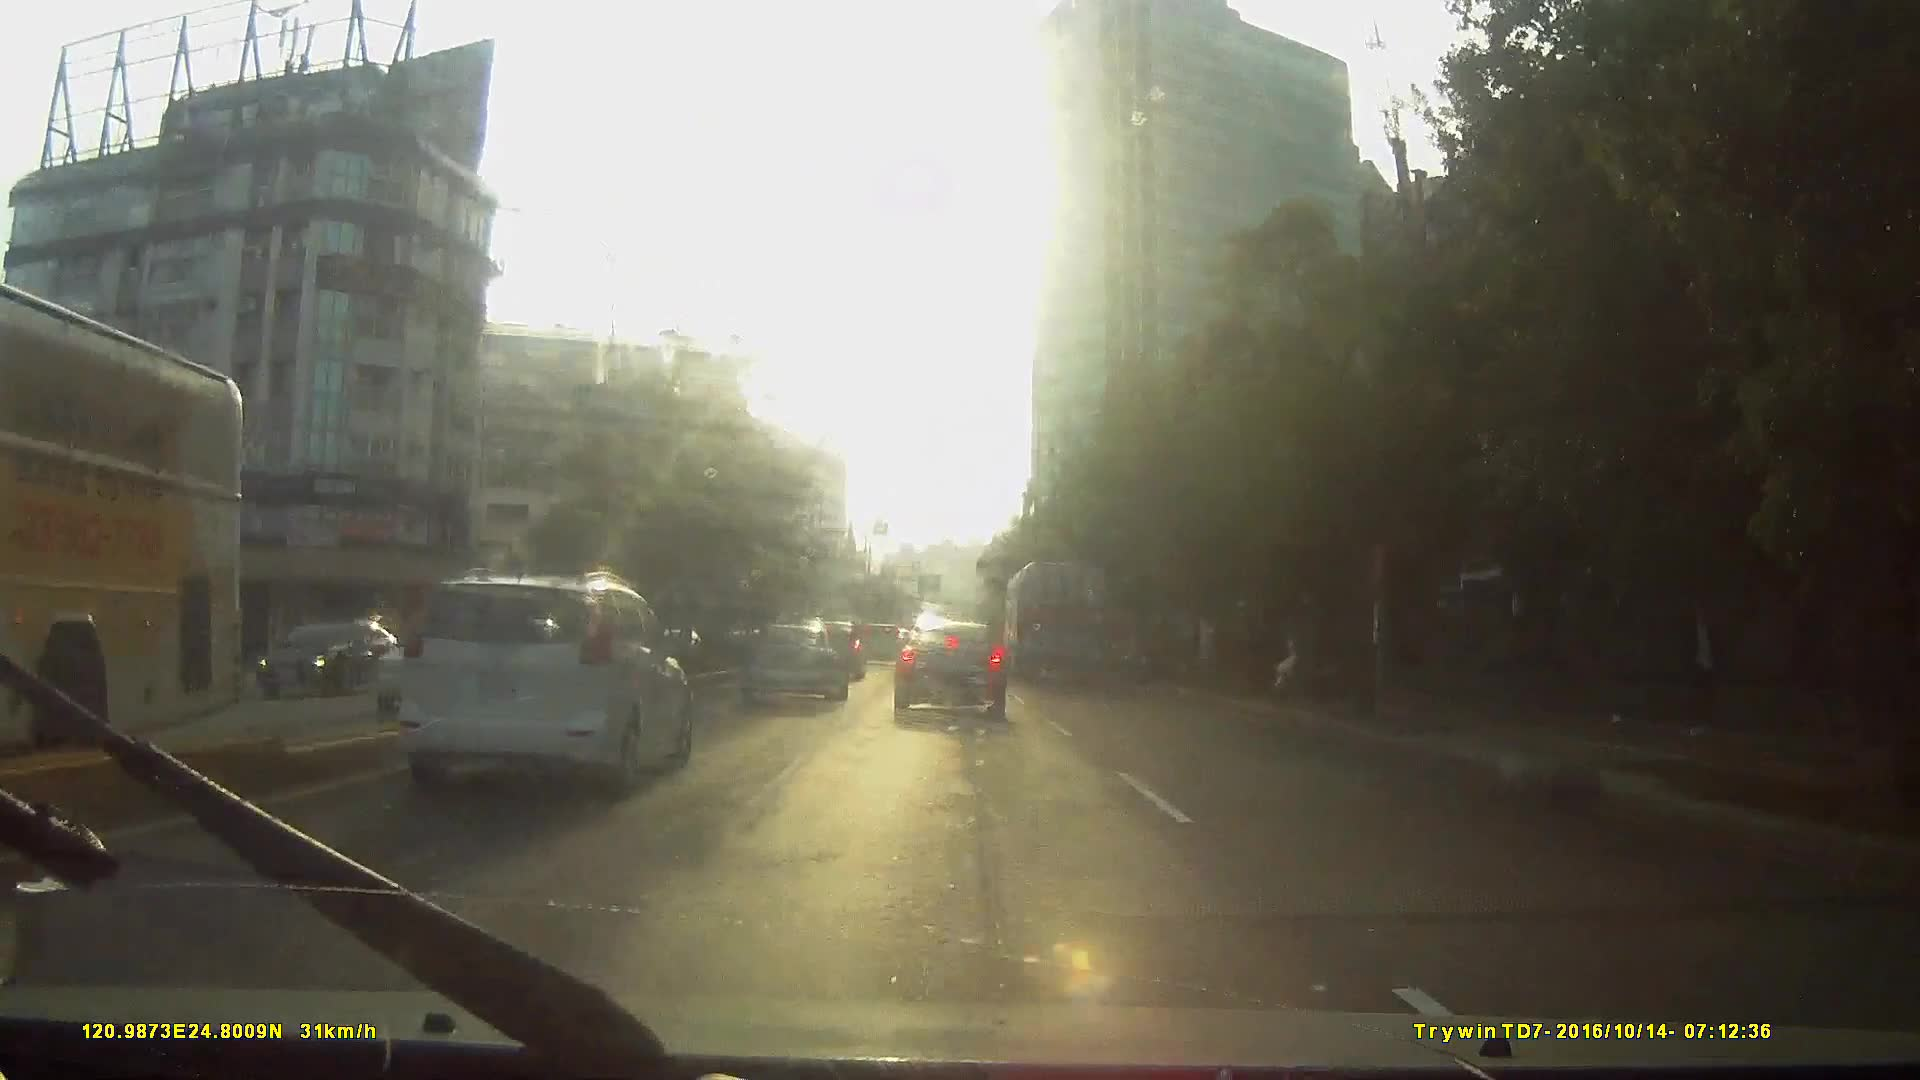pedestrian: (1658, 579, 1734, 744)
vehicle: (250, 556, 684, 868), (1, 284, 255, 810), (393, 567, 689, 793), (241, 614, 416, 702), (1004, 556, 1111, 684), (889, 612, 1005, 719), (735, 622, 844, 705), (853, 616, 902, 665)
